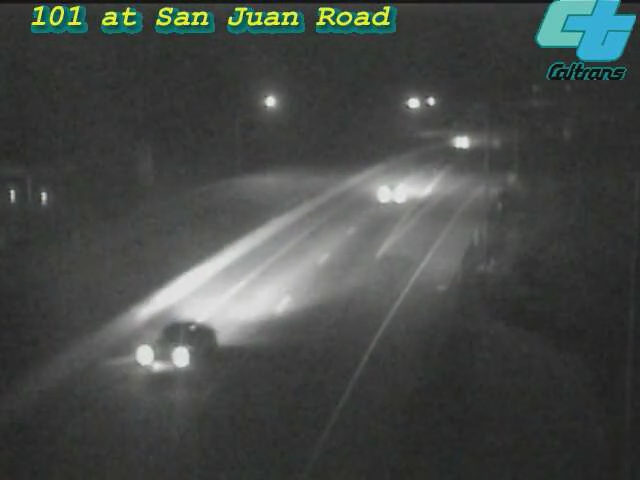vehicle: (127, 291, 237, 401), (349, 155, 429, 235), (436, 116, 486, 166)
